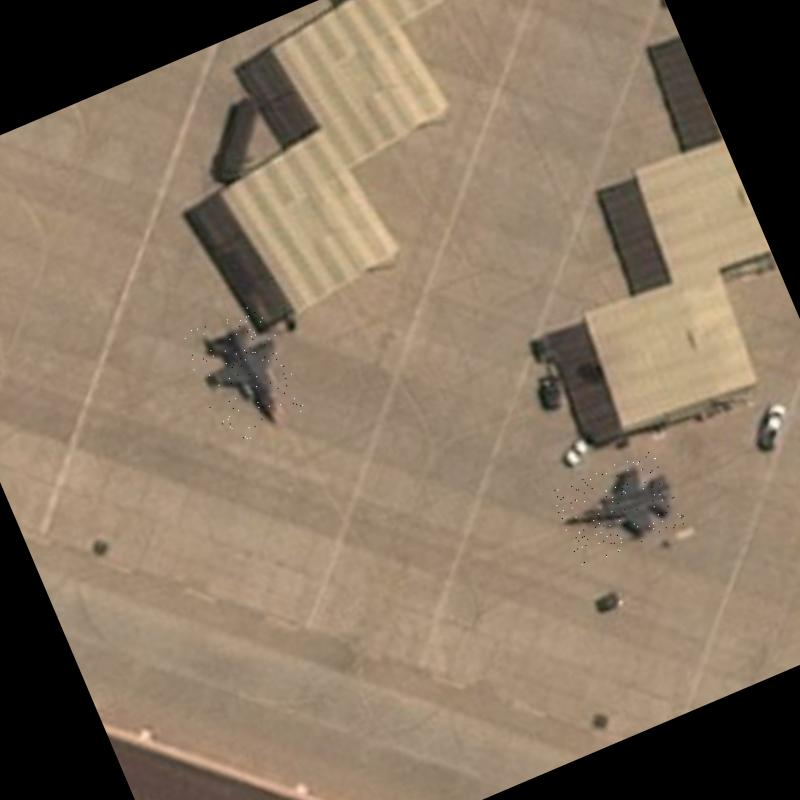A5: (179, 300, 309, 449), (548, 446, 690, 568)
